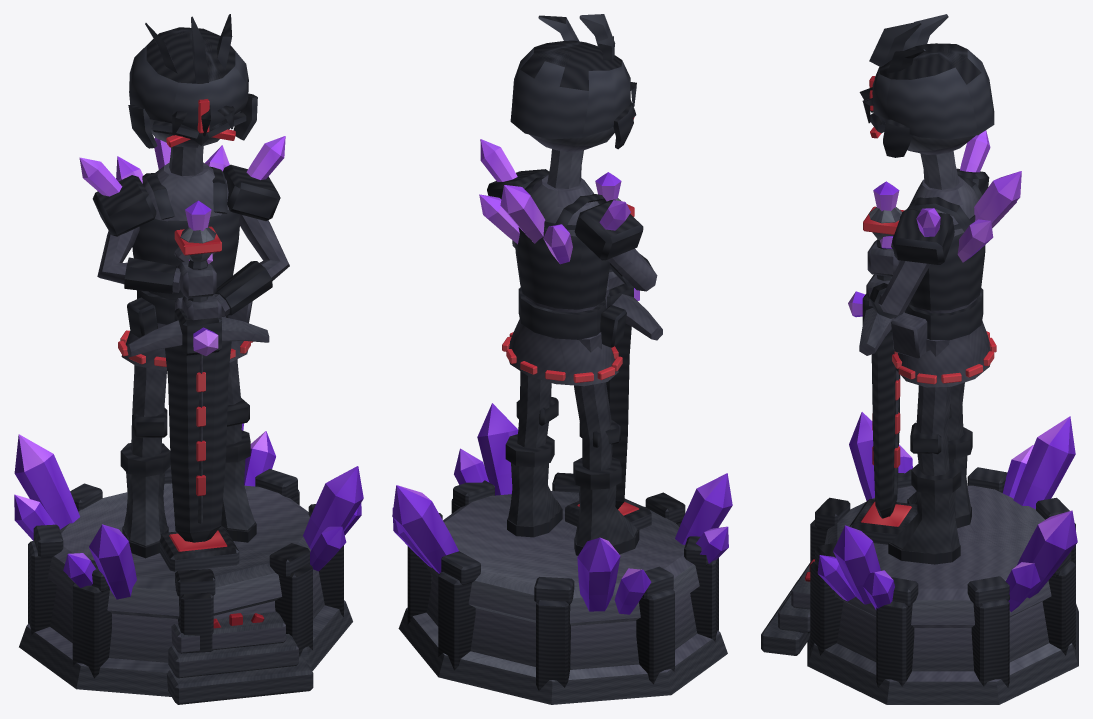
The model's file is Enemy_Statue.fbx.
3 renders of one model, left to right at view 1: azimuth 30°, elevation 25°; view 2: azimuth 150°, elevation 25°; view 3: azimuth 270°, elevation 25°, orthographic. The views are drawn at different scales.
Parts seen in each view (by area): view 1: Statue_Pedestal_Stone, Statue_Warrior_ArmorBlack, Statue_Warrior_BodyStone, Statue_Pedestal_BlackTrim, Statue_Crystals_Violet, Statue_Sword_BlackBlade, Statue_Accents_Red, Statue_Sword_StoneHilt; view 2: Statue_Pedestal_Stone, Statue_Warrior_ArmorBlack, Statue_Warrior_BodyStone, Statue_Crystals_Violet, Statue_Pedestal_BlackTrim, Statue_Sword_BlackBlade, Statue_Accents_Red, Statue_Sword_StoneHilt; view 3: Statue_Pedestal_Stone, Statue_Warrior_ArmorBlack, Statue_Crystals_Violet, Statue_Warrior_BodyStone, Statue_Pedestal_BlackTrim, Statue_Sword_BlackBlade, Statue_Accents_Red, Statue_Sword_StoneHilt.
Part boxes in pixels (x1,y1,x2,y2): Statue_Pedestal_Stone: (19,483,352,704); Statue_Warrior_ArmorBlack: (92,14,280,558); Statue_Warrior_BodyStone: (97,111,289,546); Statue_Pedestal_BlackTrim: (28,465,343,678); Statue_Crystals_Violet: (14,136,363,599); Statue_Sword_BlackBlade: (165,260,231,542); Statue_Accents_Red: (118,99,264,628); Statue_Sword_StoneHilt: (127,226,269,523); Statue_Pedestal_Stone: (398,490,727,704); Statue_Warrior_ArmorBlack: (487,14,652,555); Statue_Warrior_BodyStone: (508,126,657,546); Statue_Crystals_Violet: (392,139,732,614); Statue_Pedestal_BlackTrim: (407,472,718,690); Statue_Sword_BlackBlade: (606,269,633,509); Statue_Accents_Red: (502,117,639,515); Statue_Sword_StoneHilt: (607,198,662,340); Statue_Pedestal_Stone: (761,485,1078,704); Statue_Warrior_ArmorBlack: (859,14,994,564); Statue_Crystals_Violet: (817,130,1077,611); Statue_Warrior_BodyStone: (866,123,990,553); Statue_Pedestal_BlackTrim: (810,467,1075,687); Statue_Sword_BlackBlade: (862,239,900,518); Statue_Accents_Red: (805,76,996,581); Statue_Sword_StoneHilt: (859,207,902,494).
Size of the model in its own units: 2.56 by 5.45 by 2.55.
4 materials, 4 textured.
